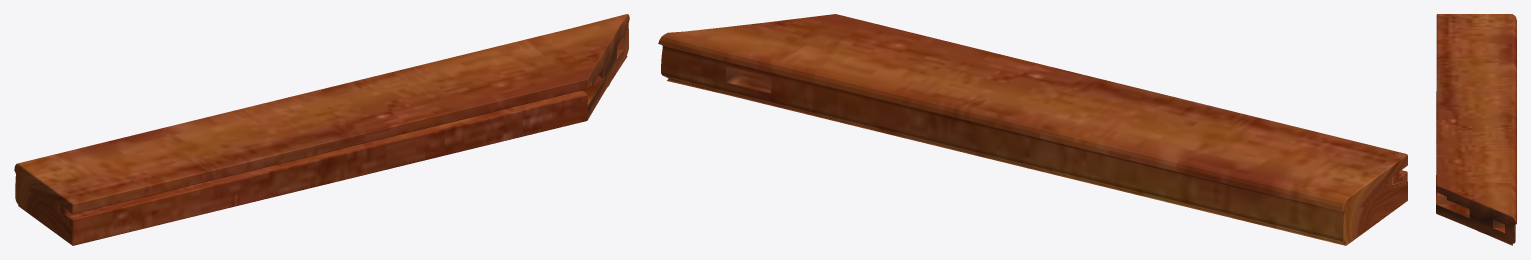
File: baxianzhuo_J_motou_02.FBX
The picture shows the model from 3 angles, left to right: view 1: azimuth 30°, elevation 25°; view 2: azimuth 150°, elevation 25°; view 3: azimuth 270°, elevation 25°; orthographic projection. The views are drawn at different scales.
Visible parts, largest first — view 1: baxianzhuo_J_motou_02; view 2: baxianzhuo_J_motou_02; view 3: baxianzhuo_J_motou_02.
Boxes of the visible parts, <box> form: baxianzhuo_J_motou_02: <box>14,14,629,245</box>; baxianzhuo_J_motou_02: <box>658,14,1407,245</box>; baxianzhuo_J_motou_02: <box>1436,14,1516,245</box>.
Size of the model in its own units: 48.43 by 3.25 by 8.07.
Materials: 2 (2 with a texture image).
